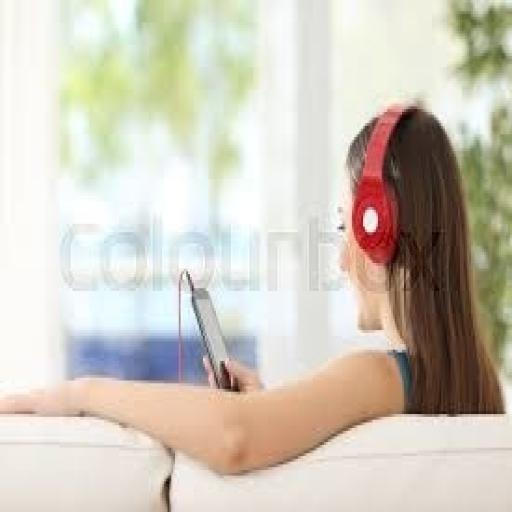listening_to_music: (0, 97, 506, 478)
